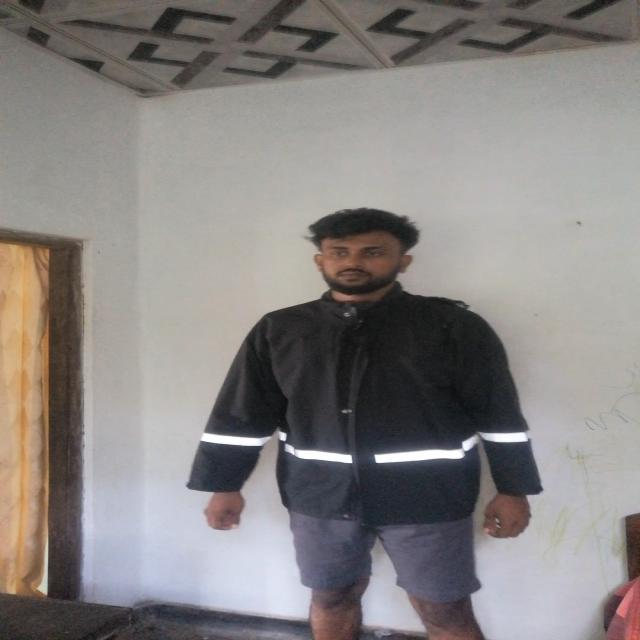Jacket_Wearer: (198, 284, 555, 526)
